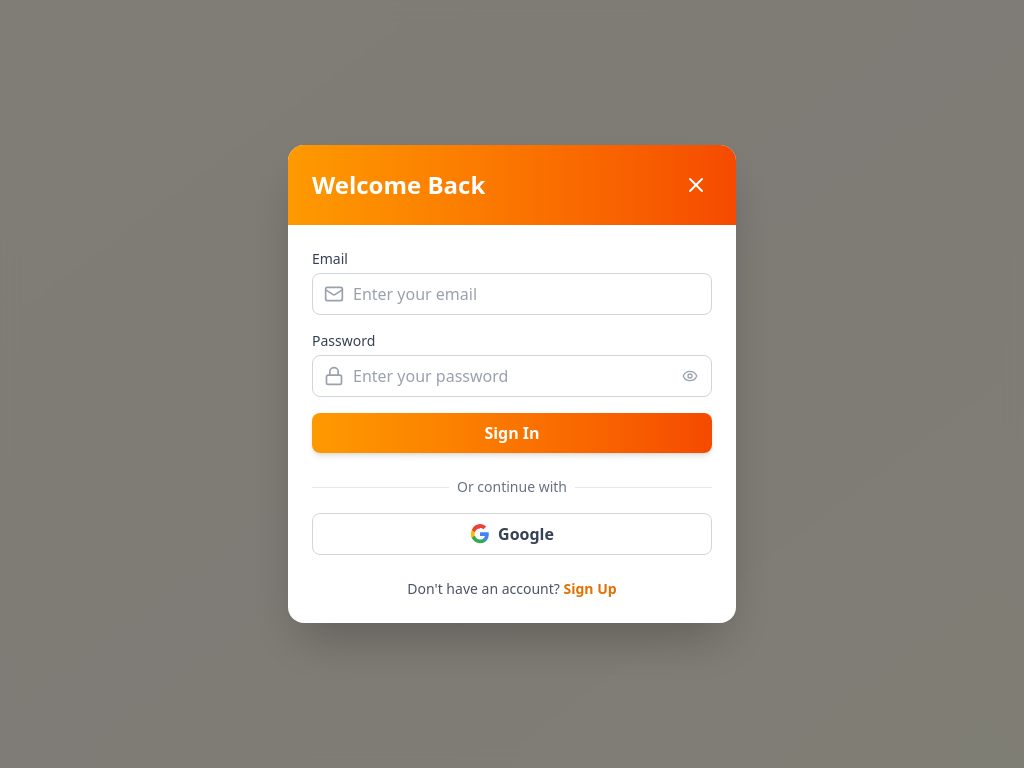
Test: AuthModal › toggles back to sign in from sign up
This screenshot has width=1024, height=768.
Click the button "Sign Up" at (590,589), box [564, 579, 617, 599]
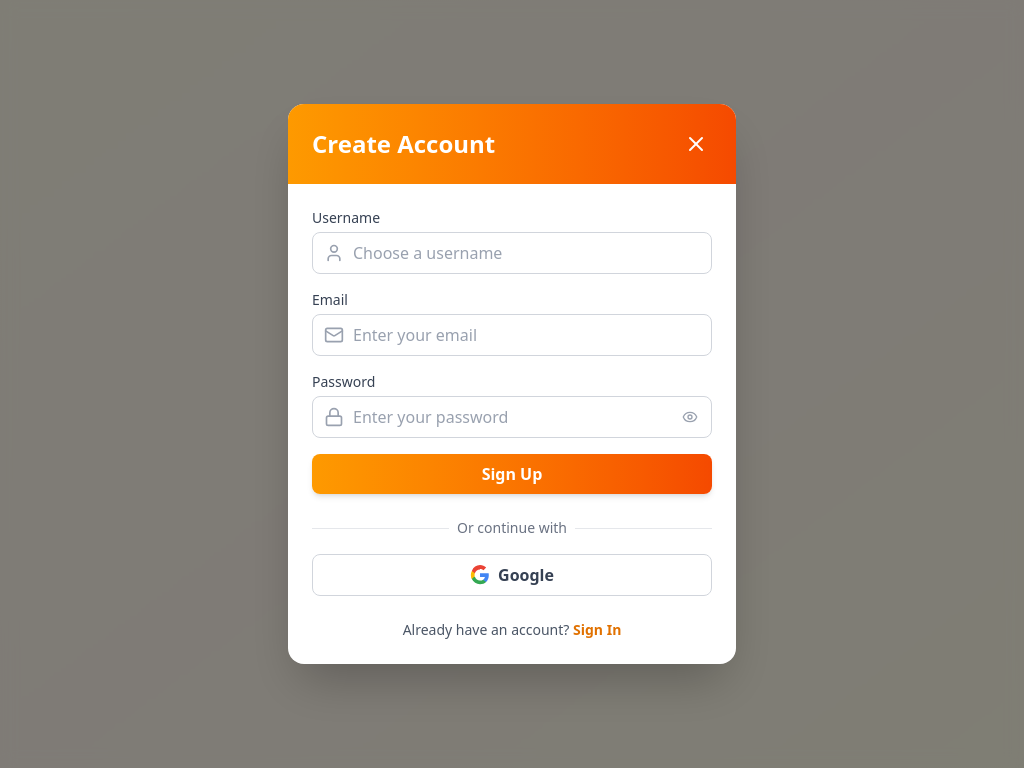
Expected: the heading "Create Account" is shown, [312, 128, 495, 160]
Click the button "Sign In" at (597,630), box [573, 620, 621, 640]
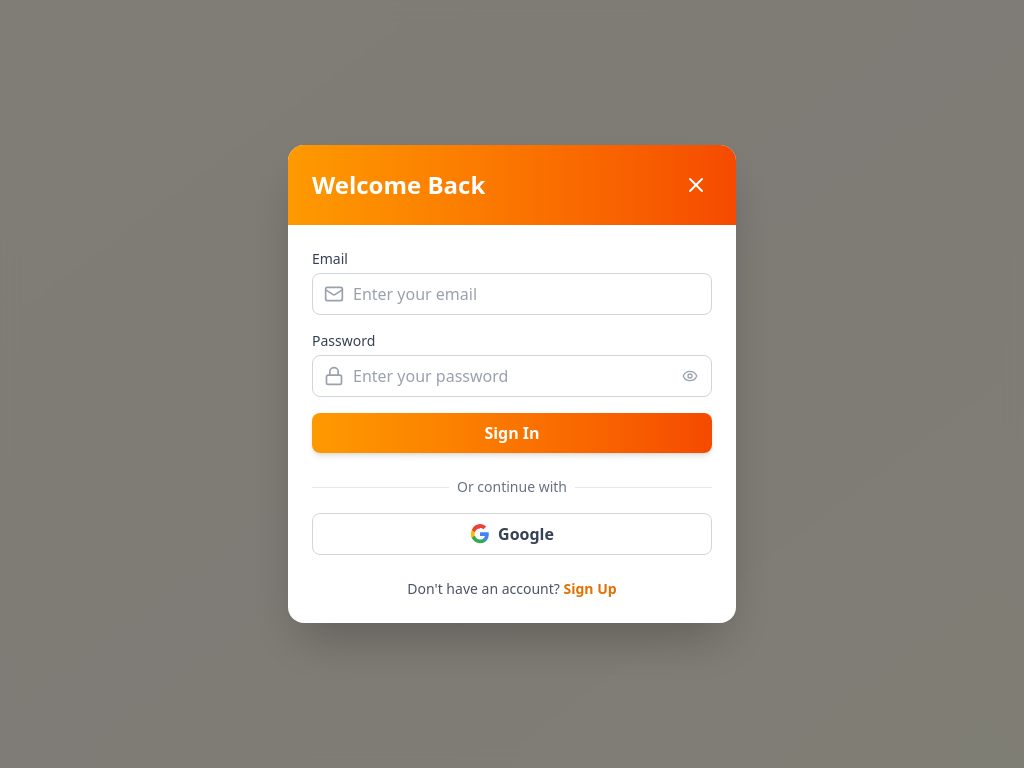
Expected: the heading "Welcome Back" is shown, [312, 169, 485, 201]
